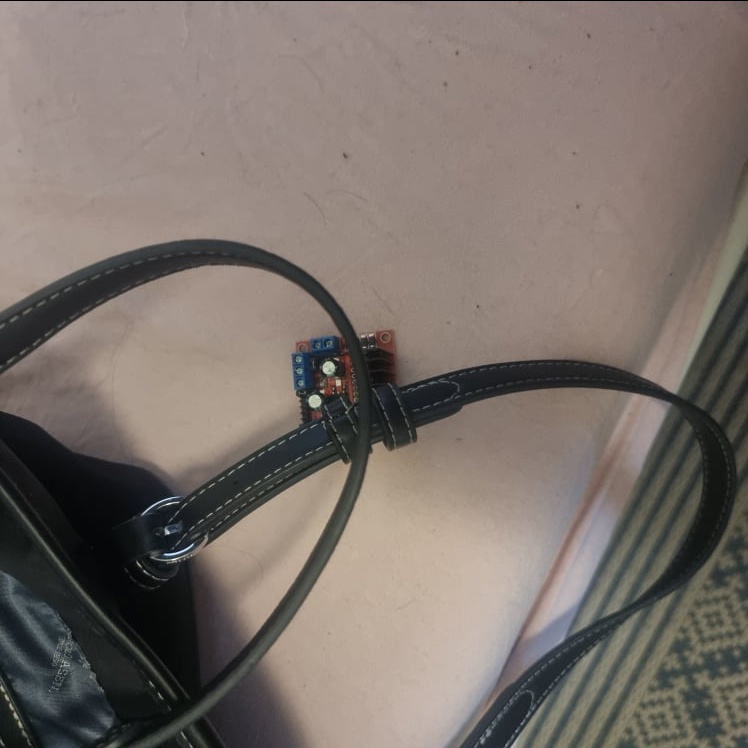MOTOR: (291, 329, 399, 431)
